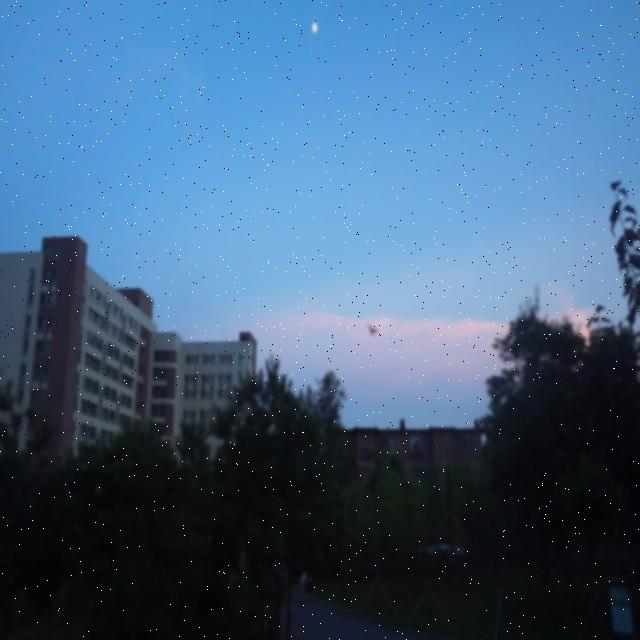UAV: (365, 323, 379, 338)
